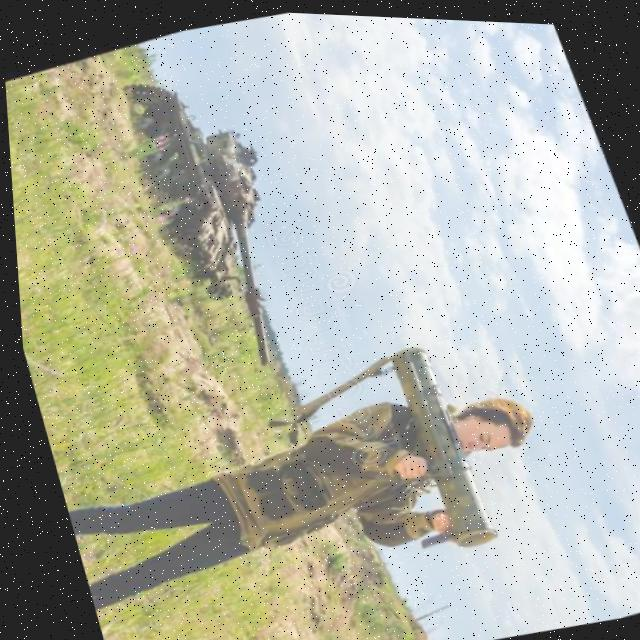rocket: (356, 328, 506, 571)
